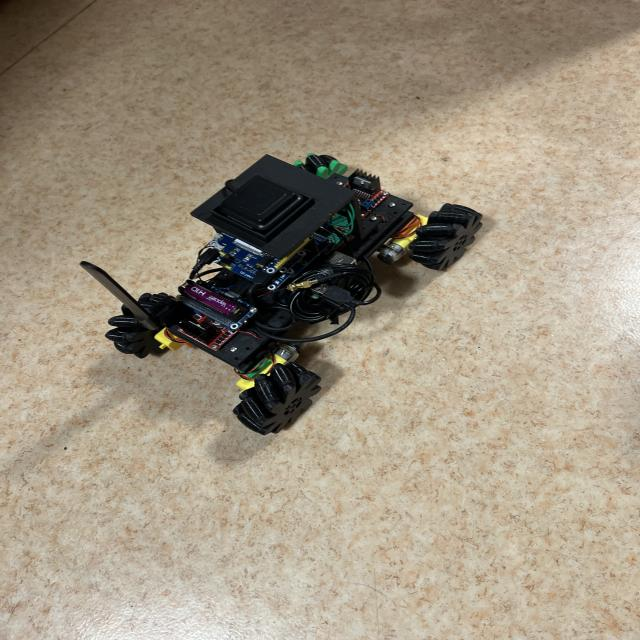robot: (81, 154, 419, 434), (407, 204, 482, 269)
